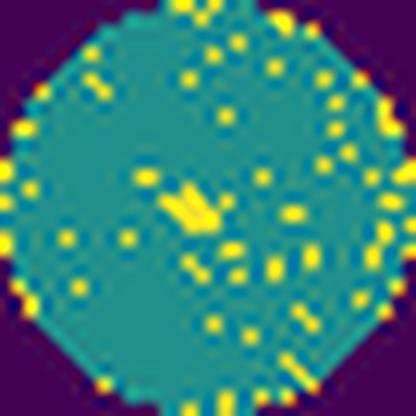Center: (151, 181, 229, 237)
